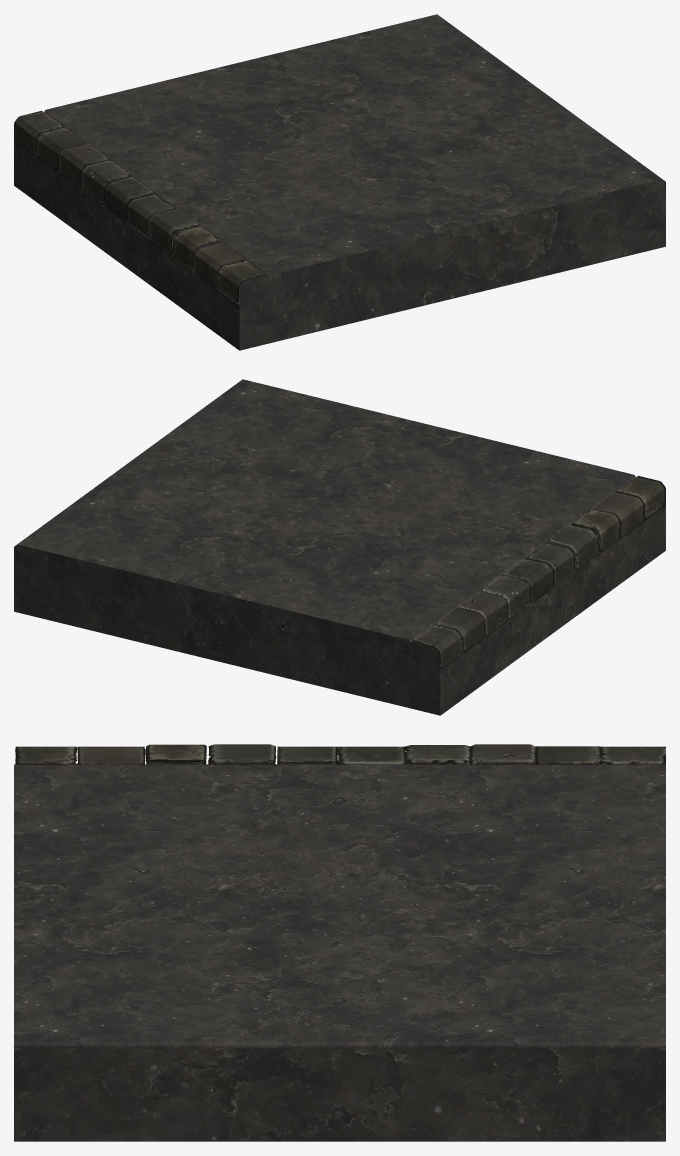
3 renders of one model, top to bottom at view 1: azimuth 30°, elevation 25°; view 2: azimuth 150°, elevation 25°; view 3: azimuth 270°, elevation 25°, orthographic. The views are drawn at different scales.
Parts seen in each view (by area): view 1: SM_Downdun_Vaulted_Floor_12x14_01_LOD0; view 2: SM_Downdun_Vaulted_Floor_12x14_01_LOD0; view 3: SM_Downdun_Vaulted_Floor_12x14_01_LOD0.
Boxes of the visible parts, x1=… form: SM_Downdun_Vaulted_Floor_12x14_01_LOD0: x1=14, y1=14, x2=665, y2=350; SM_Downdun_Vaulted_Floor_12x14_01_LOD0: x1=14, y1=379, x2=665, y2=715; SM_Downdun_Vaulted_Floor_12x14_01_LOD0: x1=14, y1=744, x2=665, y2=1141.
Bounding box in the file's own units: 13.1 × 2.05 × 12.
Materials: 2 (2 with a texture image).
